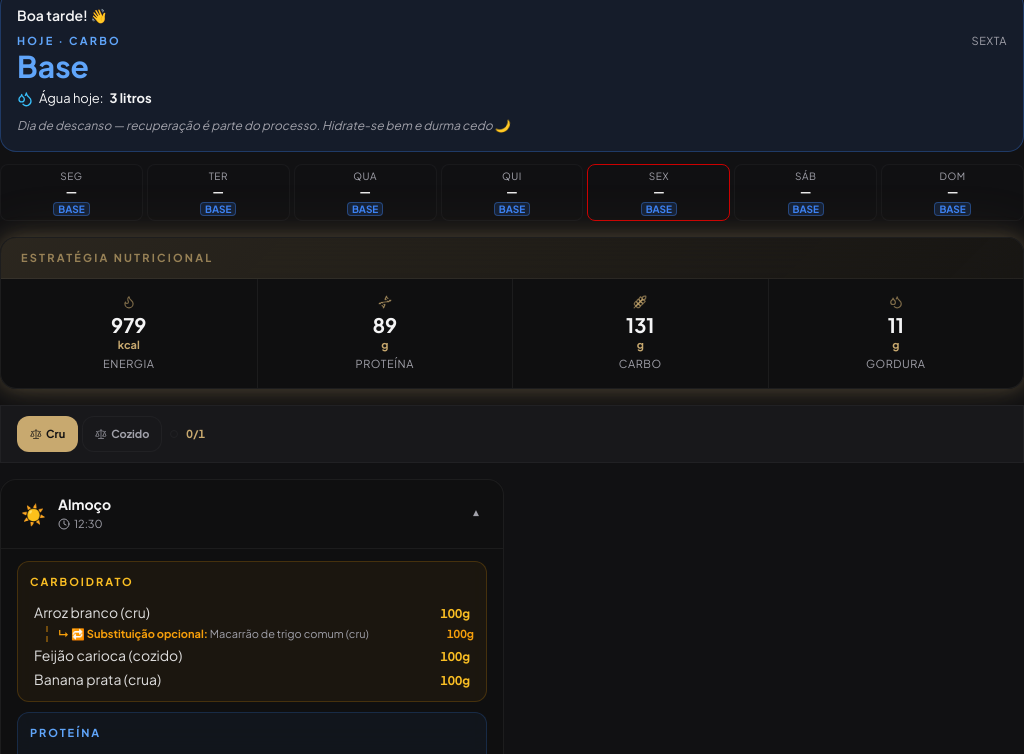
Test case: StructuredMealsViewer — Cru × Cozido › modo Cozido: peso converte E o nome vira cozido — nunca '(cru)' ao lado de peso cozido
Click the button "Cozido": [122, 434] box [82,416,162,452]
(page scrolled)
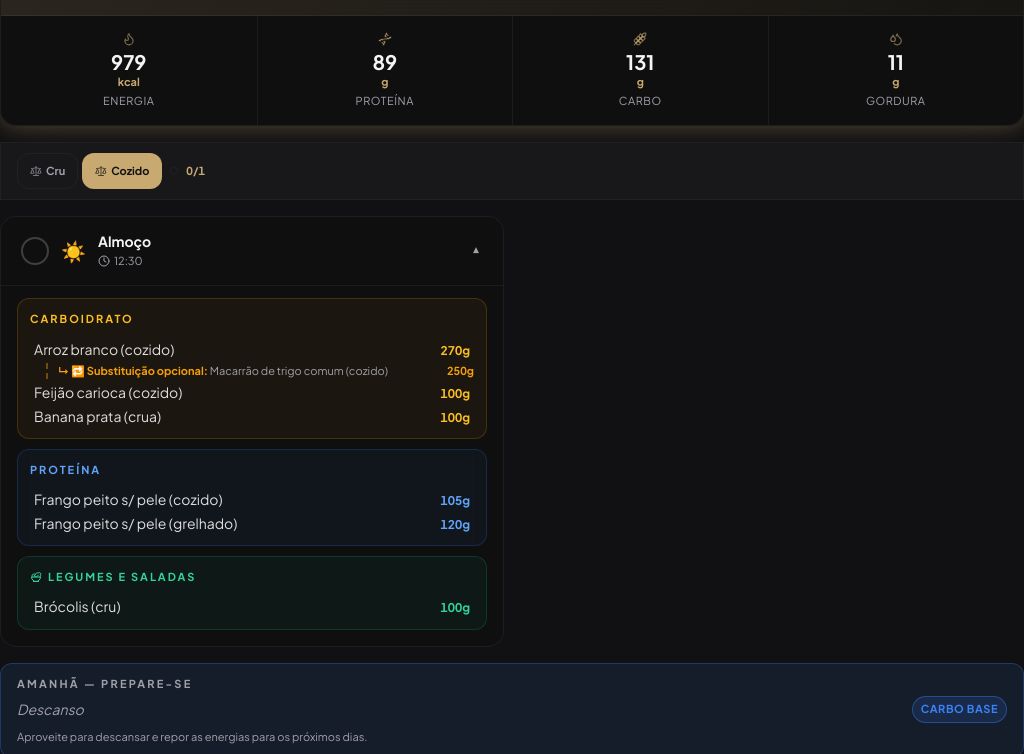
Now the text "Arroz branco (cru)" is gone
Now the text "Frango peito s/ pele (cozido) 105g" is shown, box [30,490,474,510]
